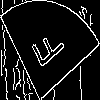F: (25, 24, 66, 76)
